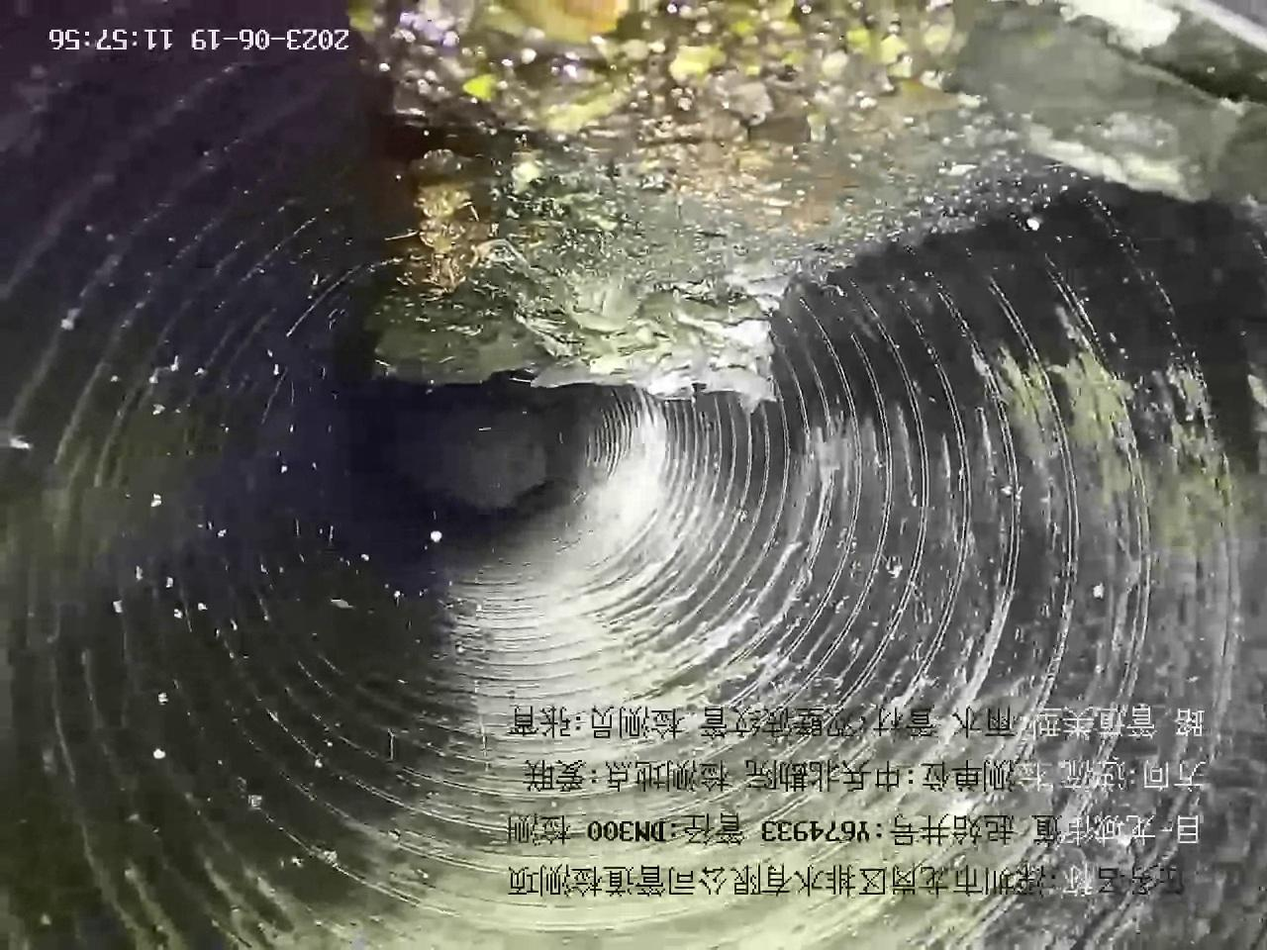CJ: (350, 1, 1267, 401)
